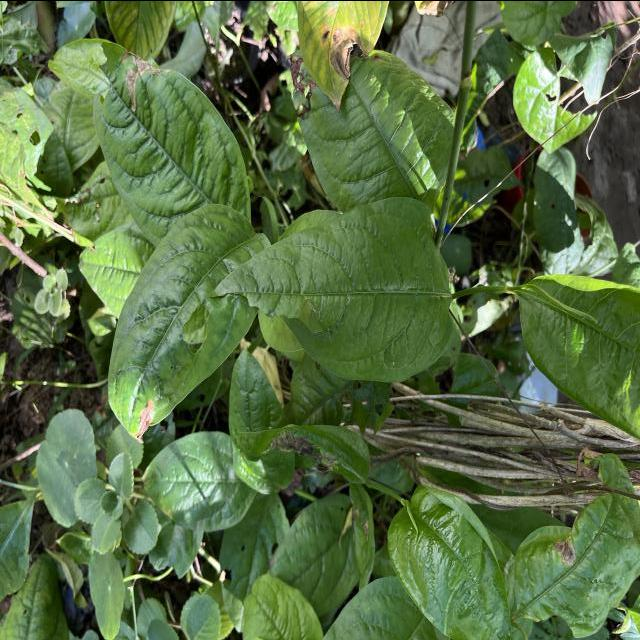Plumbago indica: (213, 178, 462, 386), (102, 200, 266, 443), (92, 54, 249, 230), (388, 472, 512, 640), (136, 426, 254, 532)
